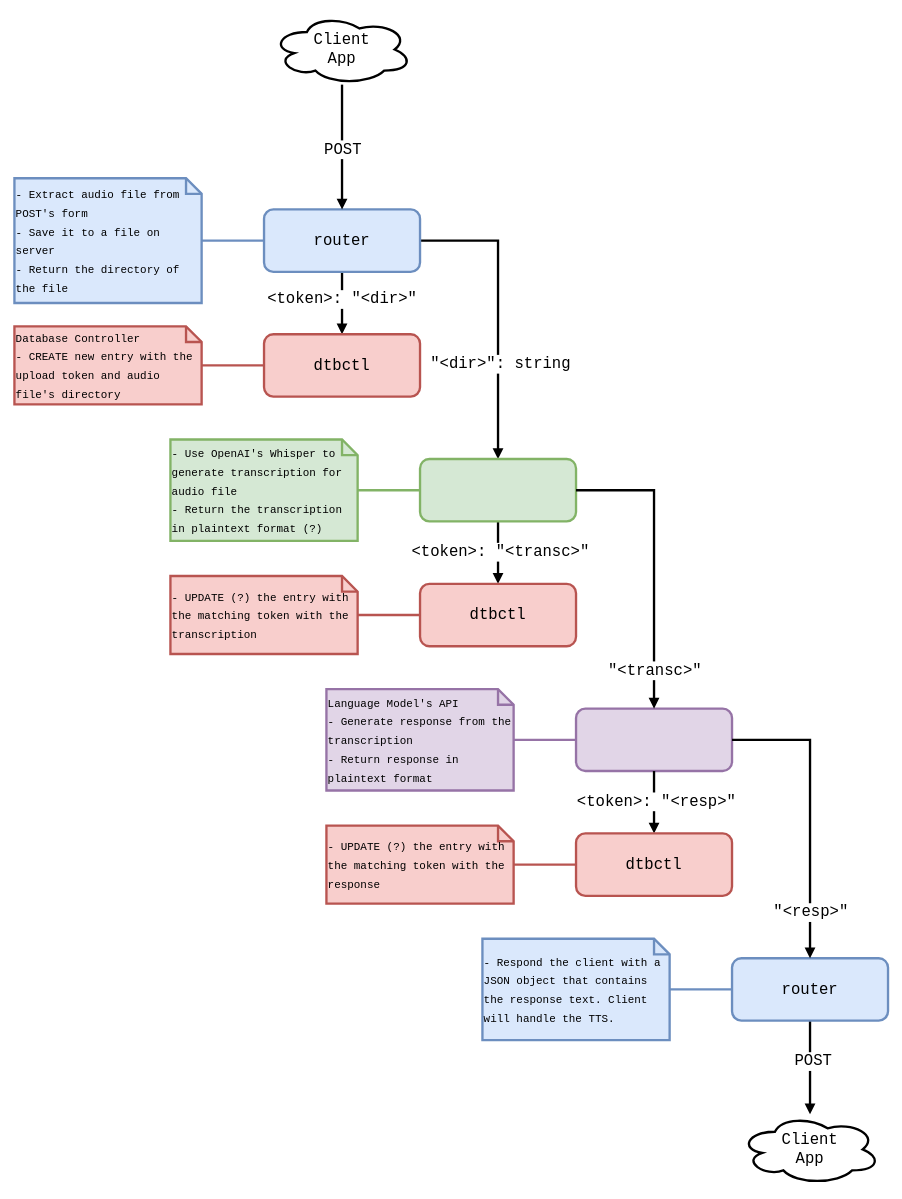
Image size: 902x1199. Some labels were removed from this diagram. Each missing label, with the box of its shape:
llama: (574, 707, 733, 772)
speechtotext: (418, 457, 577, 522)
